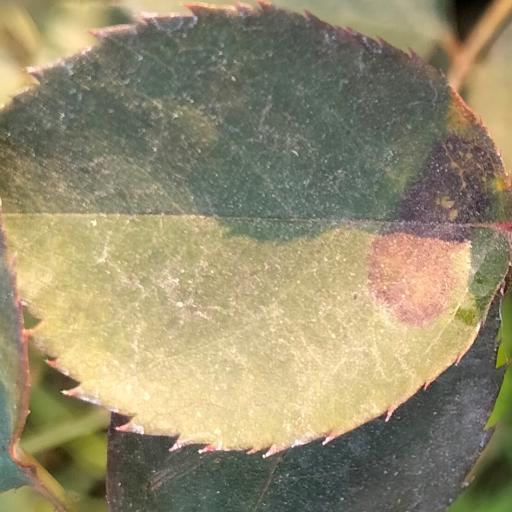black_spot: (0, 0, 512, 454)
